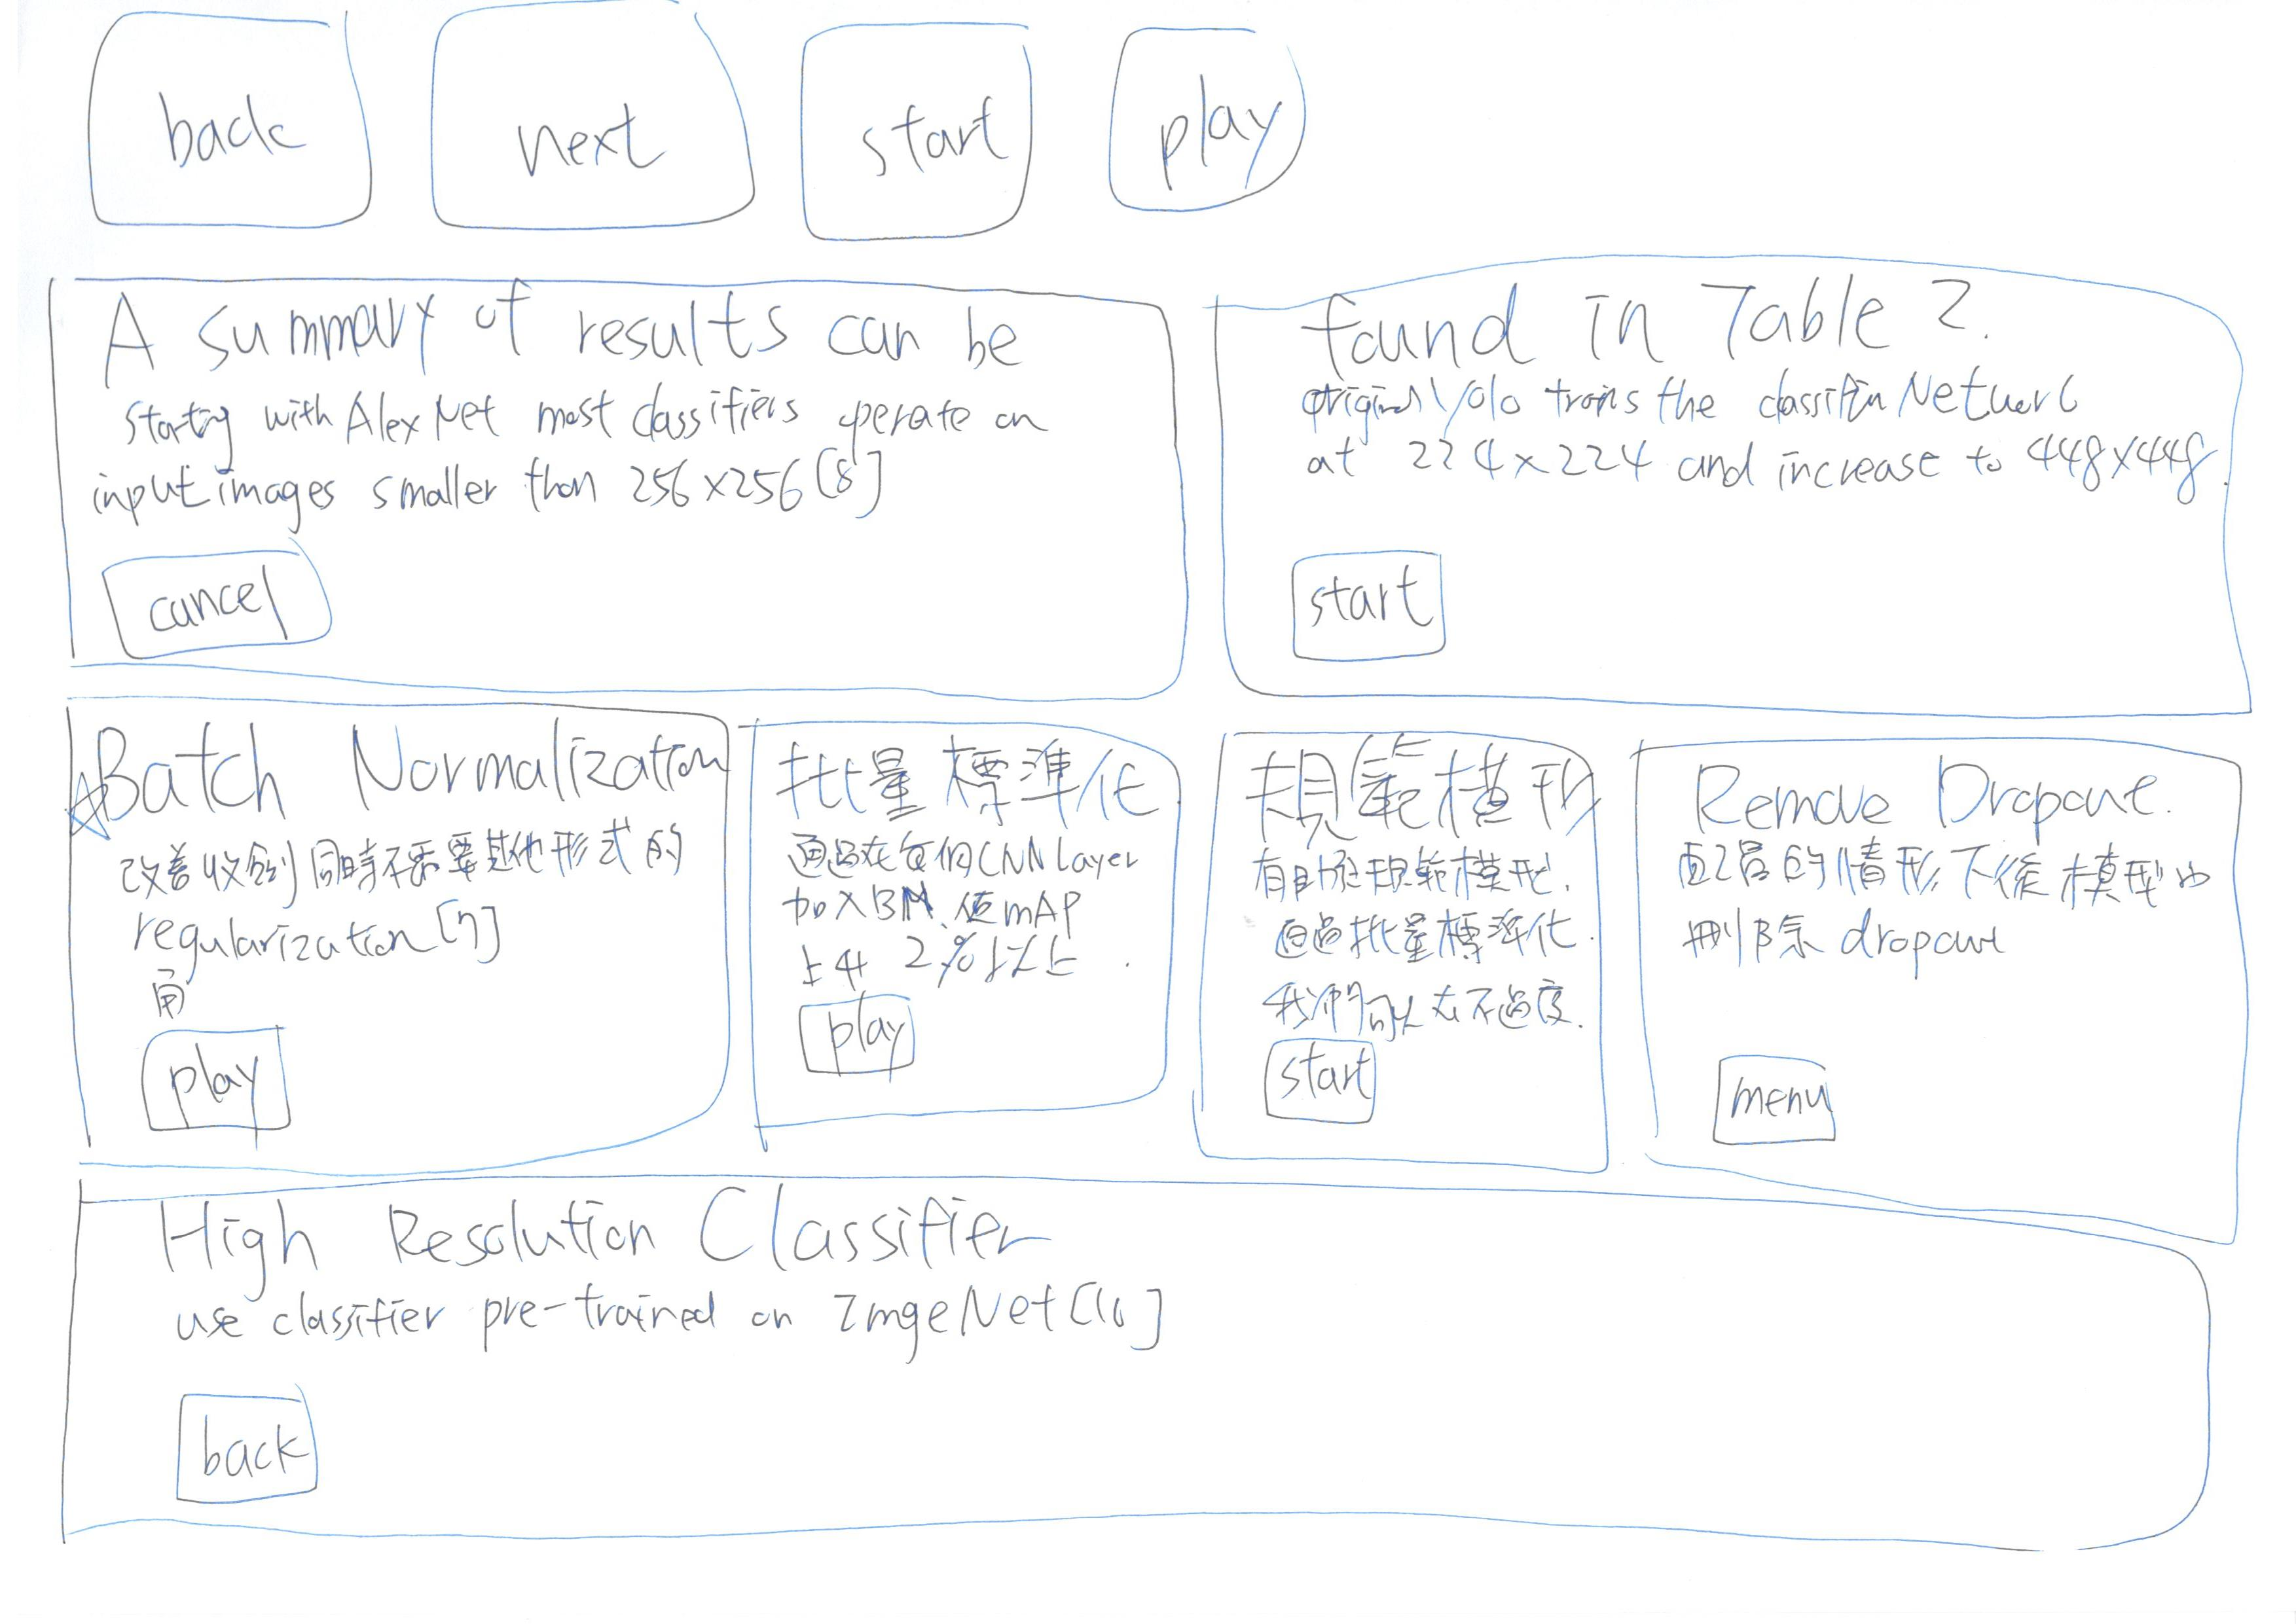back: (62, 0, 392, 272), (141, 1357, 345, 1526)
cancel: (93, 524, 383, 680)
double: (19, 255, 1208, 740), (1167, 246, 2296, 735)
menu: (1686, 1032, 1878, 1164)
next: (390, 2, 777, 271)
play: (113, 1019, 315, 1155), (782, 986, 946, 1104)
quadruple: (12, 687, 751, 1211), (1616, 714, 2296, 1271), (719, 692, 1201, 1167), (1167, 705, 1649, 1179)
row: (35, 244, 2296, 728), (35, 712, 2296, 1195), (35, 1141, 2296, 1624), (35, 4, 2296, 265)
single: (39, 1158, 2296, 1619)
small-title: (149, 1183, 1055, 1272), (109, 715, 708, 819), (1679, 756, 2173, 847), (1250, 733, 1596, 863), (1310, 290, 1916, 357), (765, 747, 1152, 842)
start: (775, 9, 1064, 276), (1266, 520, 1479, 682), (1222, 1021, 1394, 1139)
text: (1296, 376, 2224, 529), (100, 380, 1028, 524), (102, 821, 696, 1025), (1698, 835, 2217, 982), (102, 306, 1007, 383), (172, 1287, 1213, 1352), (763, 844, 1150, 1004), (1246, 842, 1575, 1021)
